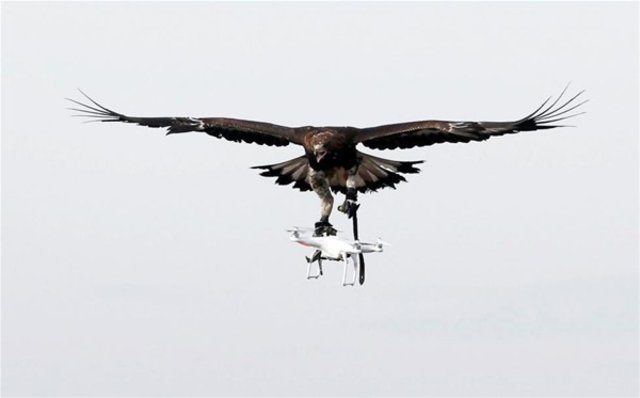Bird: (50, 77, 603, 230)
UAV: (275, 225, 395, 290)
